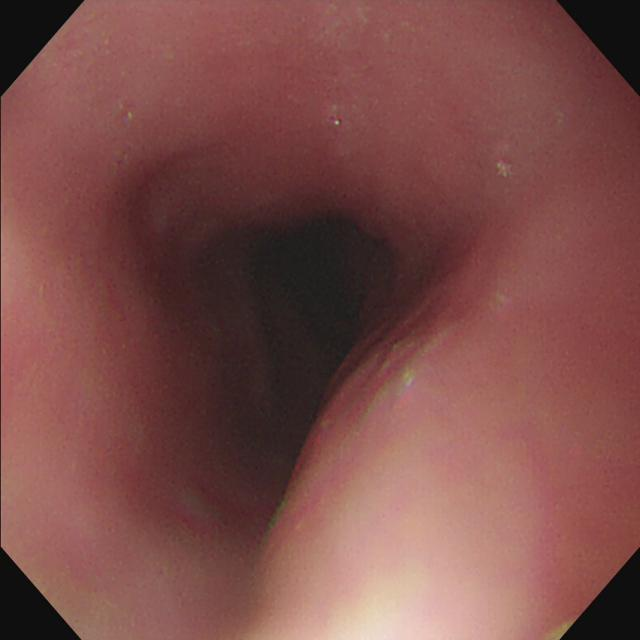E: (246, 231, 352, 386)
